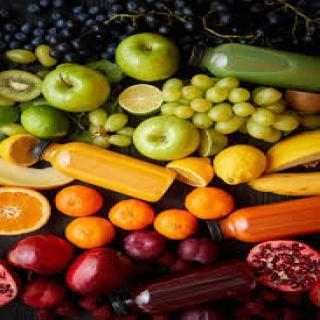orange: (132, 209, 196, 243), (64, 211, 119, 250), (109, 192, 160, 234), (54, 182, 107, 222)
